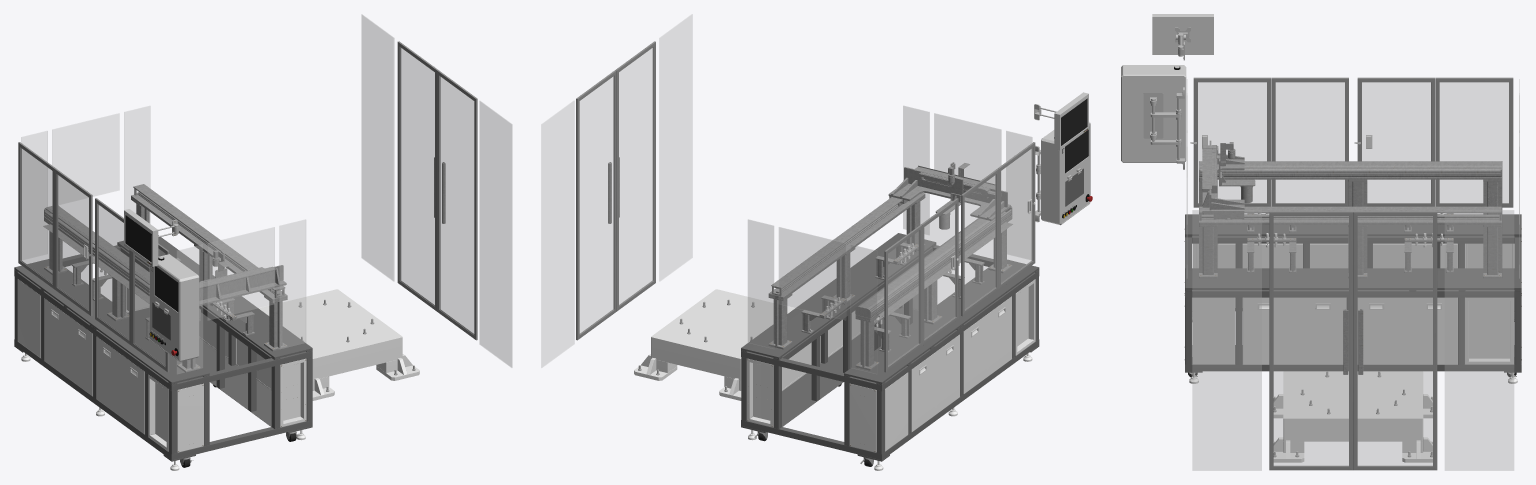
3 views of the same model, side by side, from view 1: azimuth 30°, elevation 25°; view 2: azimuth 150°, elevation 25°; view 3: azimuth 270°, elevation 25° (orthographic). The views are drawn at different scales.
Visible parts, largest first — view 1: 07_acryl, 07_frame_paint, 07_panel, 07_machine, 07_frame_almi, 07_arm_base, 07_console_box, 07_console_monitor; view 2: 07_acryl, 07_frame_paint, 07_machine, 07_panel, 07_frame_almi, 07_arm_base, 07_console_box, 07_console_monitor, 07_console_arm; view 3: 07_acryl, 07_panel, 07_frame_paint, 07_machine, 07_frame_almi, 07_arm_base, 07_console_box, 07_console_arm, 07_sus, 07_chrome.
Boxes of the visible parts, x1=… form: 07_acryl: x1=21, y1=14, x2=512, y2=373; 07_frame_paint: x1=14, y1=235, x2=312, y2=461; 07_panel: x1=17, y1=279, x2=306, y2=452; 07_machine: x1=43, y1=184, x2=287, y2=372; 07_frame_almi: x1=18, y1=41, x2=477, y2=372; 07_arm_base: x1=259, y1=289, x2=419, y2=400; 07_console_box: x1=124, y1=209, x2=199, y2=361; 07_console_monitor: x1=125, y1=215, x2=178, y2=311; 07_acryl: x1=541, y1=14, x2=1032, y2=373; 07_frame_paint: x1=741, y1=233, x2=1039, y2=461; 07_machine: x1=768, y1=162, x2=1012, y2=370; 07_panel: x1=747, y1=279, x2=1035, y2=452; 07_frame_almi: x1=576, y1=41, x2=1035, y2=372; 07_arm_base: x1=634, y1=289, x2=794, y2=400; 07_console_box: x1=1041, y1=92, x2=1090, y2=225; 07_console_monitor: x1=1061, y1=99, x2=1088, y2=173; 07_console_arm: x1=1034, y1=104, x2=1081, y2=222; 07_acryl: x1=1186, y1=79, x2=1519, y2=470; 07_panel: x1=1192, y1=243, x2=1514, y2=364; 07_frame_paint: x1=1185, y1=214, x2=1521, y2=372; 07_machine: x1=1199, y1=140, x2=1502, y2=278; 07_frame_almi: x1=1193, y1=77, x2=1513, y2=470; 07_arm_base: x1=1273, y1=371, x2=1432, y2=462; 07_console_box: x1=1121, y1=14, x2=1213, y2=162; 07_console_arm: x1=1143, y1=27, x2=1190, y2=169; 07_sus: x1=1189, y1=309, x2=1516, y2=376; 07_chrome: x1=1190, y1=135, x2=1441, y2=309.
Bounding box in the file's own units: 3.37 × 2.21 × 2.86.
Materials: 11 (5 with a texture image).
